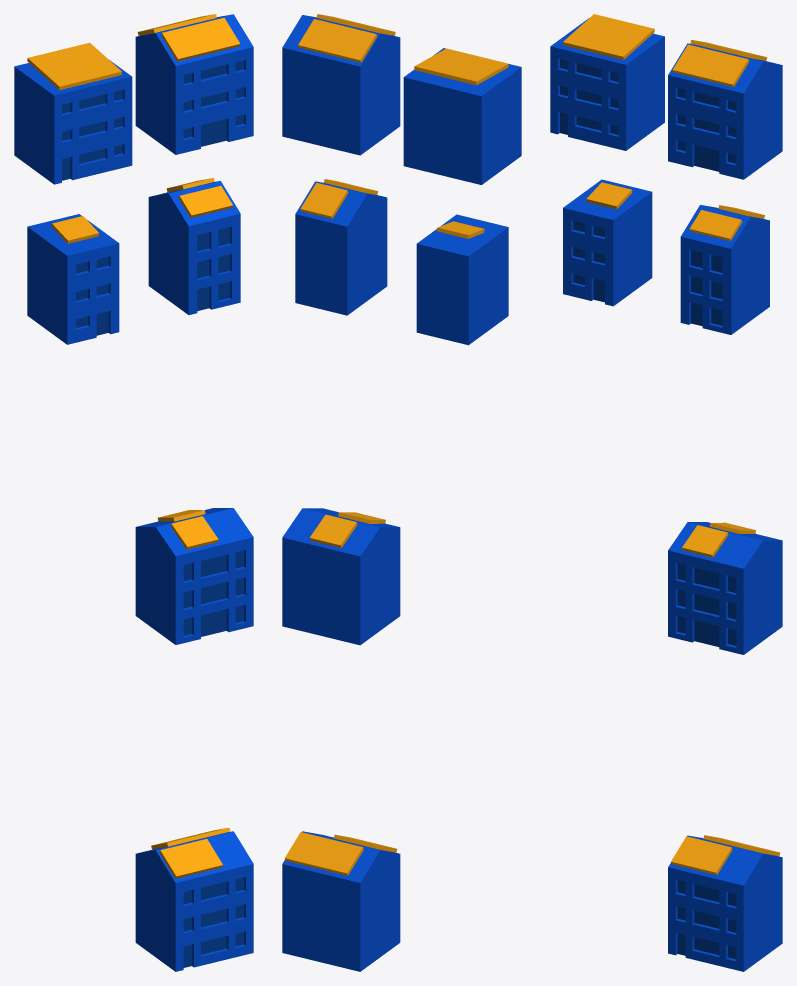
The model's file is GhostBina1.gltf.
3 renders of one model, left to right at view 1: azimuth 30°, elevation 25°; view 2: azimuth 150°, elevation 25°; view 3: azimuth 330°, elevation 25°, orthographic. The views are drawn at different scales.
Visible parts, largest first — view 1: Building_013.005, Building_008_RoofCap_0.001, Building_011.005, Building_001_RoofCap_0.001, Building_009_RoofCap_0.001, Building_002.005; view 2: Building_008_RoofCap_0.001, Building_013.005, Building_011.005, Building_001_RoofCap_0.001, Building_009_RoofCap_0.001, Building_002.005; view 3: Building_013.005, Building_008_RoofCap_0.001, Building_011.005, Building_001_RoofCap_0.001, Building_009_RoofCap_0.001, Building_002.005.
Part boxes in pixels (x1,y1,x2,y2): Building_013.005: (135,827,253,971); Building_008_RoofCap_0.001: (135,14,253,154); Building_011.005: (135,508,253,644); Building_001_RoofCap_0.001: (14,42,132,184); Building_009_RoofCap_0.001: (148,178,240,314); Building_002.005: (27,214,119,344); Building_008_RoofCap_0.001: (282,14,400,155); Building_013.005: (282,831,400,971); Building_011.005: (282,508,400,645); Building_001_RoofCap_0.001: (403,48,521,184); Building_009_RoofCap_0.001: (295,179,387,315); Building_002.005: (416,214,508,345); Building_013.005: (668,835,782,971); Building_008_RoofCap_0.001: (668,40,782,179); Building_011.005: (668,522,782,654); Building_001_RoofCap_0.001: (550,14,664,150); Building_009_RoofCap_0.001: (680,205,769,334); Building_002.005: (563,179,652,306).
Size of the model in its own units: 0.125 by 0.5543 by 0.0435.
